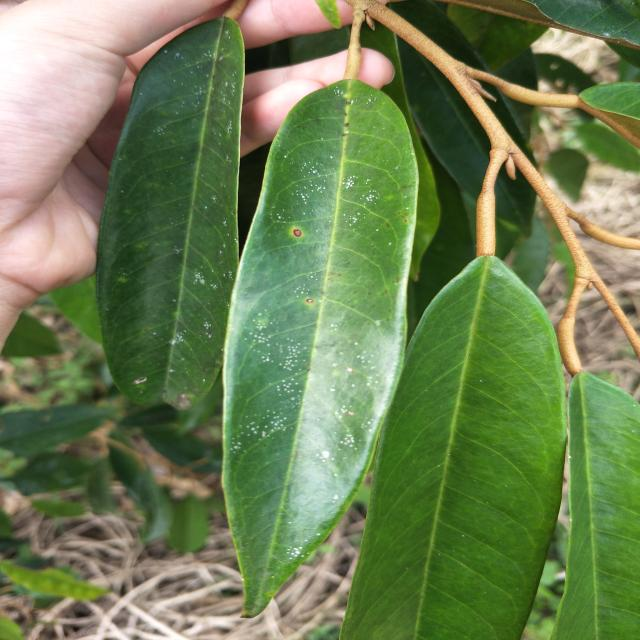Leaf Spot: (229, 178, 333, 499), (168, 49, 250, 148), (182, 254, 237, 371)
